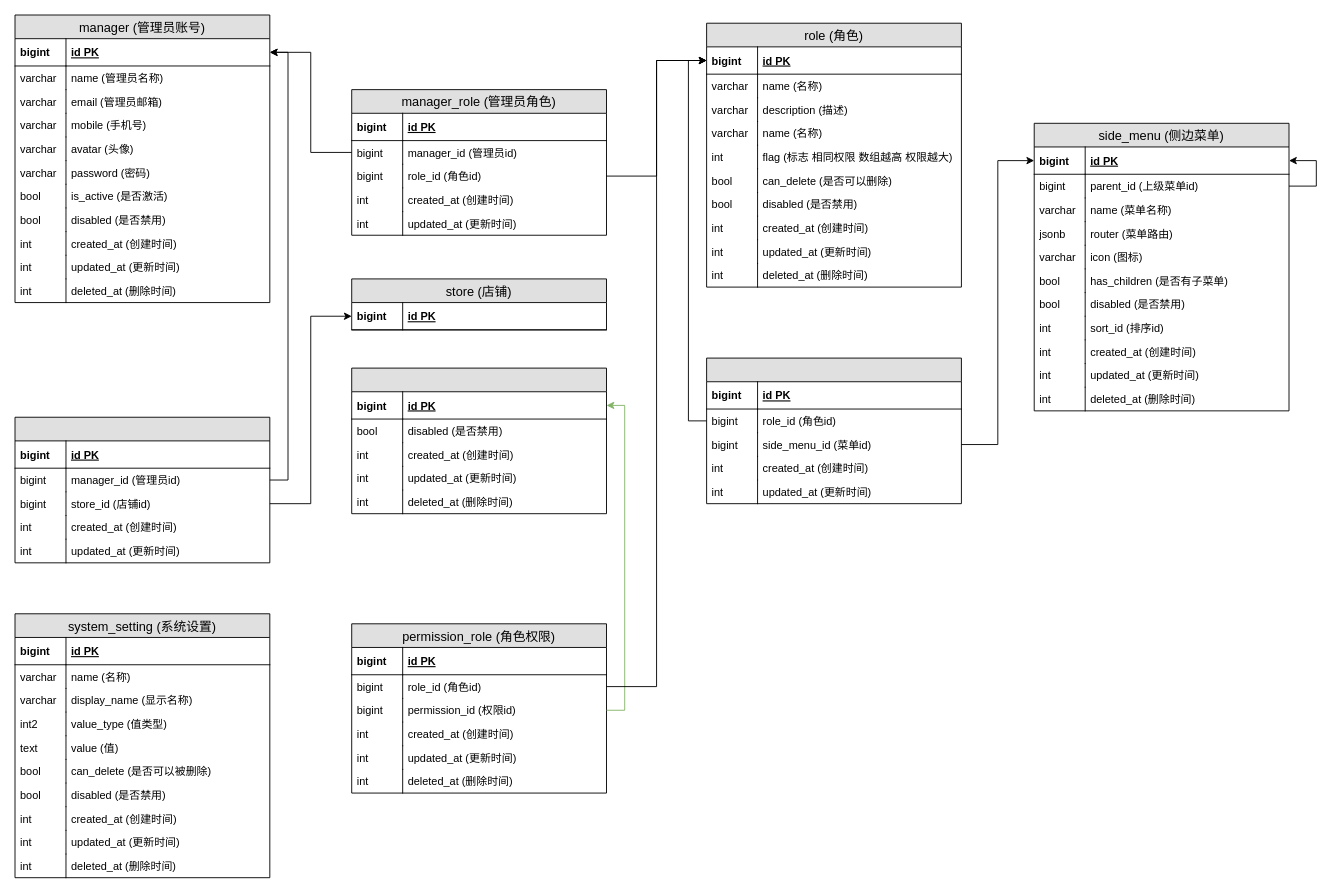
This 1331x893 diagram has some shape labels left out. The shapes that lost their labels are listed below. From the top down, each one's box as (x1, y1, x2, y2) in pixels, then its label:
(351, 367, 607, 514): permission (权限)
(706, 357, 961, 504): role_side_menu (角色侧边菜单)
(14, 416, 270, 563): manager_store
